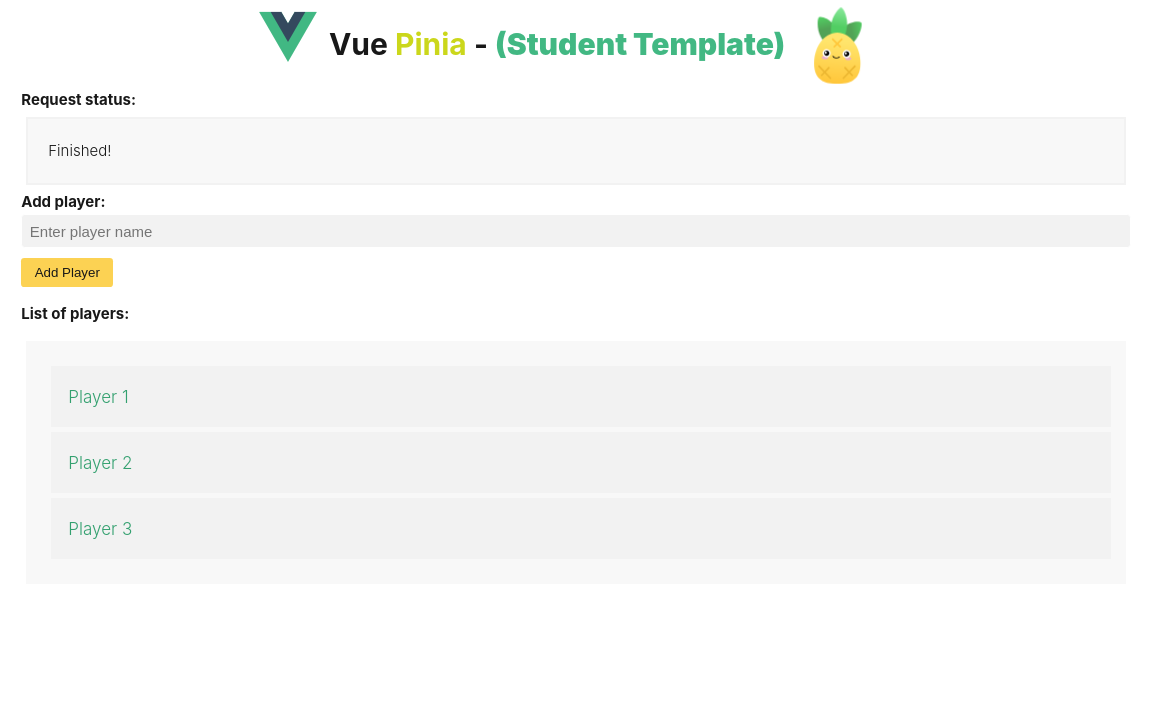
Test: Requests: POST › Should not add a new player if POST request fails
Expected: the text "Finished!" is shown, [26,117,1126,185]
Type "New Player" into the field with id "input-player" at x=576, y=231, box [21,214,1130,248]
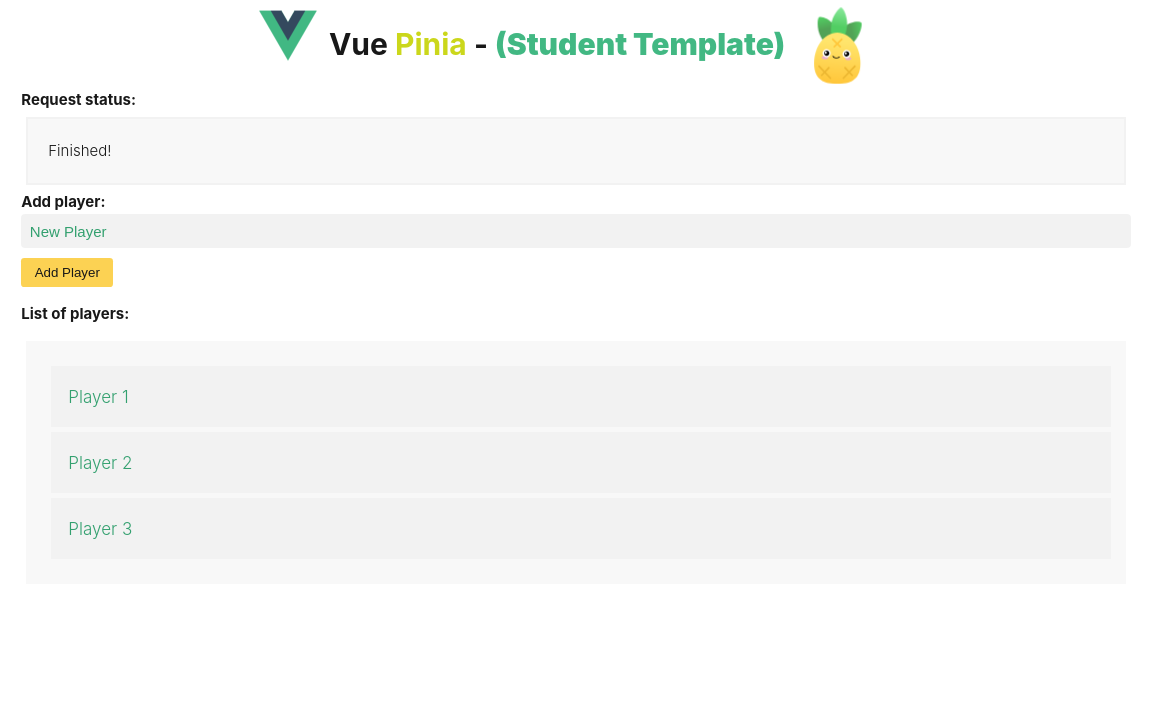
Click the button "Add Player" at x=67, y=272, box [21,258,113,286]
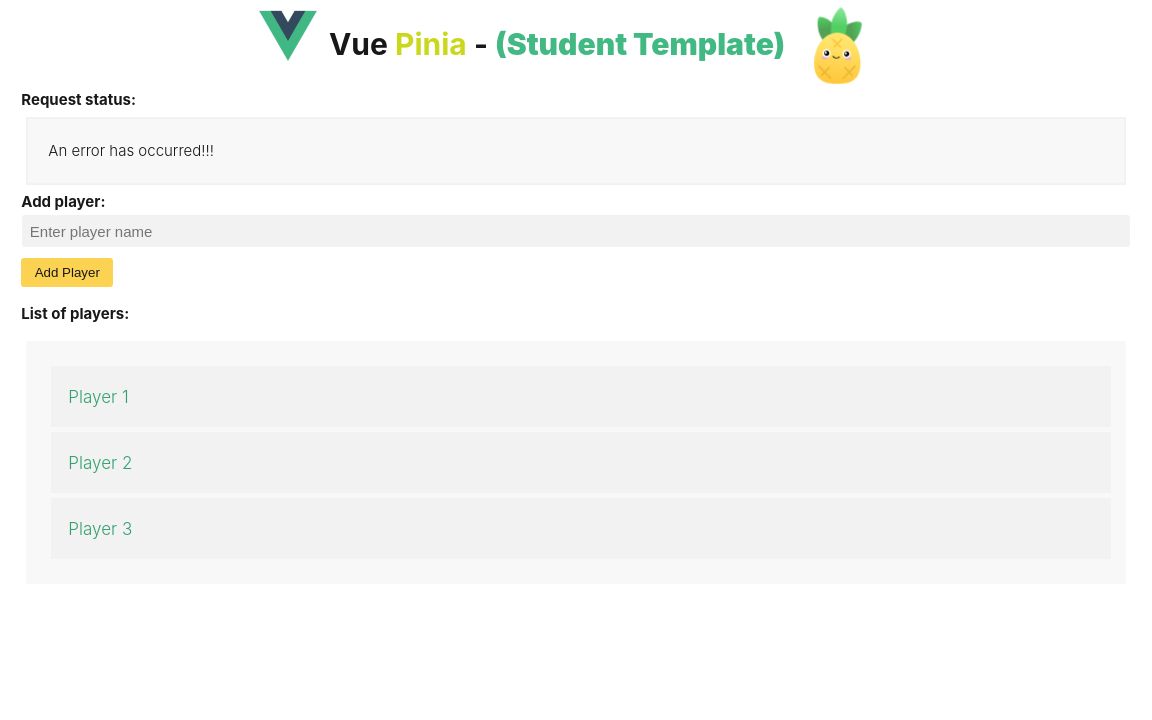
Expected: the number of list items is 3, [51,366,1111,427]; [51,432,1111,493]; [51,498,1111,559]
Now the text "An error has occurred!!!" is shown, box [26,117,1126,185]
